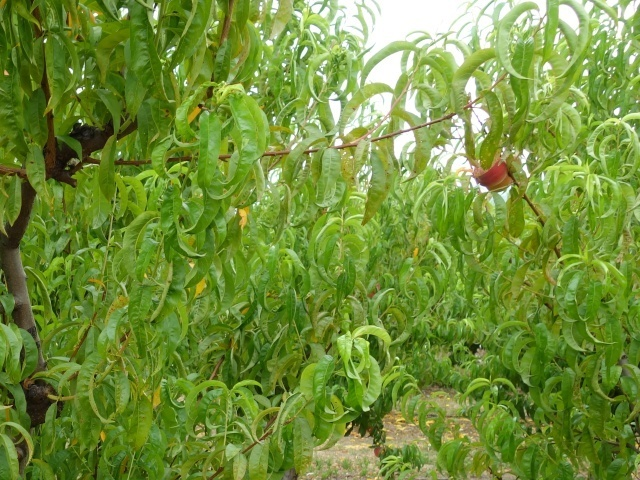peach: (470, 150, 510, 188)
